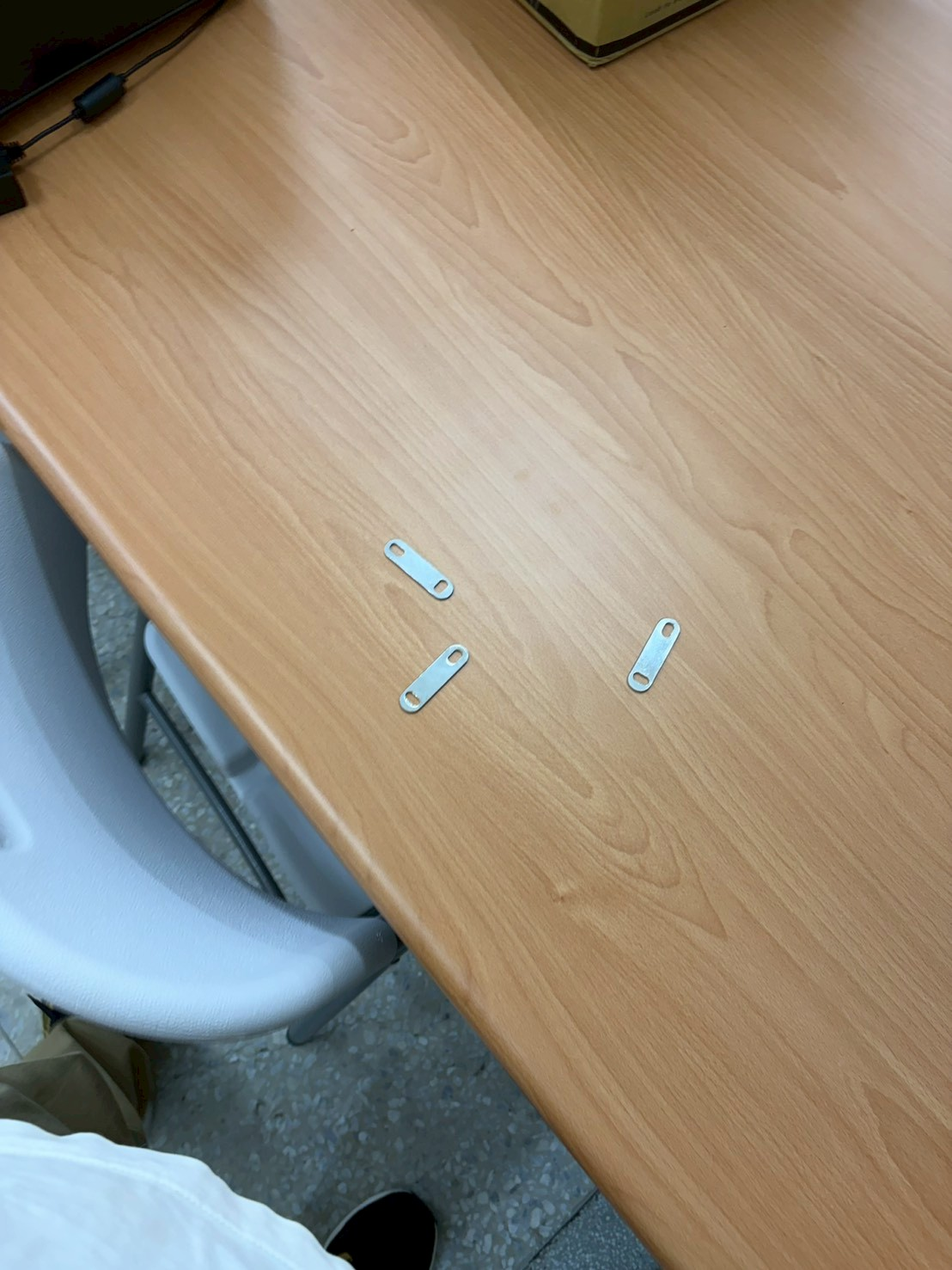Fe: (370, 537, 462, 608), (393, 647, 473, 714), (623, 611, 683, 693)
